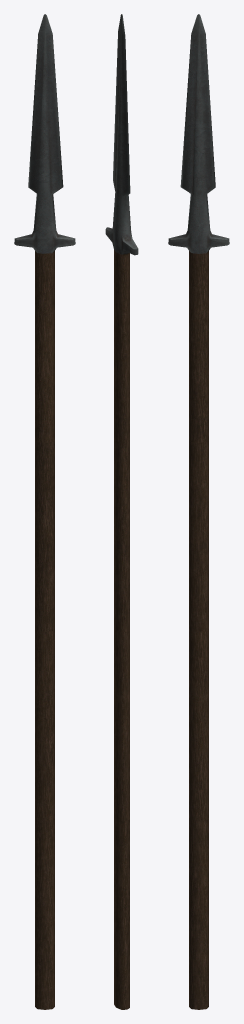
File: spear.fbx
3 views of the same model, side by side, from view 1: azimuth 90°, elevation 25°; view 2: azimuth 210°, elevation 25°; view 3: azimuth 270°, elevation 25° (orthographic).
Visible parts, largest first — view 1: spear; view 2: spear; view 3: spear.
Part boxes in pixels (bbox=[...]): spear: bbox=[14, 14, 75, 1009]; spear: bbox=[105, 14, 138, 1009]; spear: bbox=[168, 14, 229, 1009].
Size of the model in its own units: 5.7 by 393 by 22.01.
